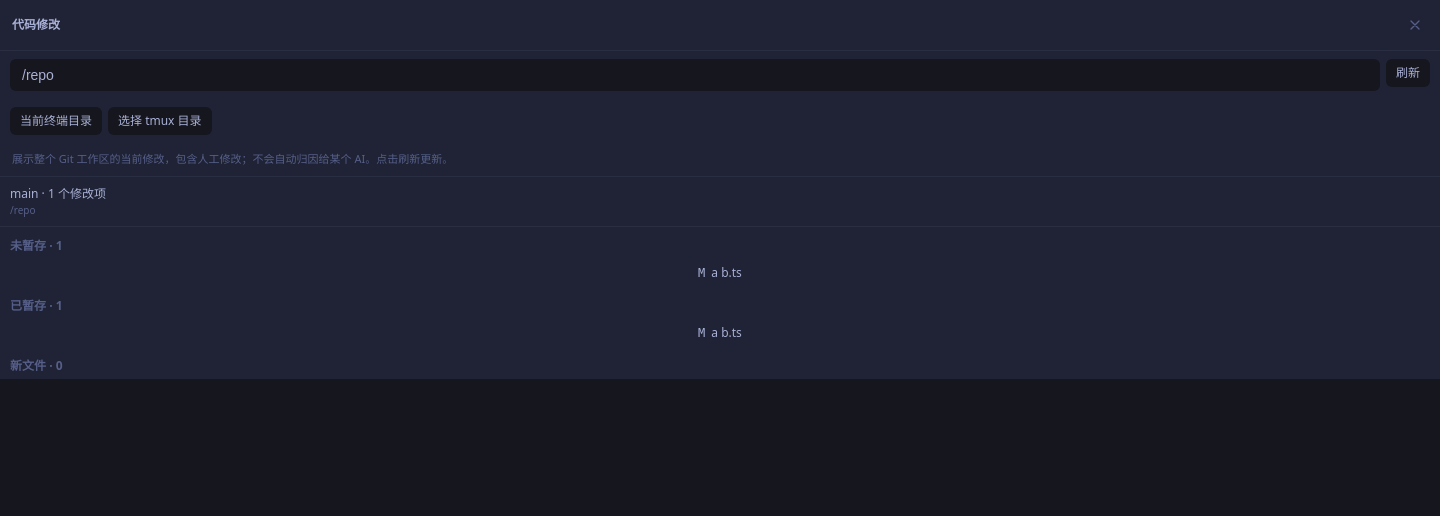
Scenario: separates staged and working diffs and passes literal paths
Check: the heading "未暂存 · 1" is shown, box [10,236,63,254]
Click the button "M a b.ts" below "已暂存": [720, 332] box [10,318,1430,346]
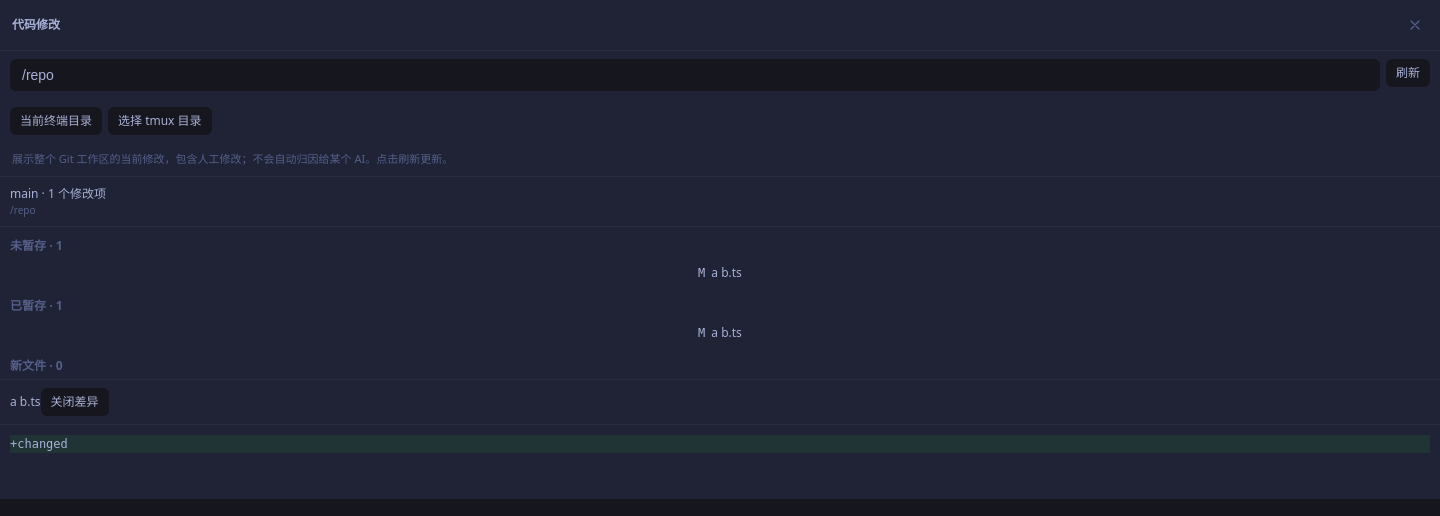
Check: the text "+changed" is shown, box [10,434,1430,452]
